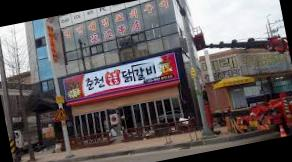galbi: (130, 62, 156, 82)
